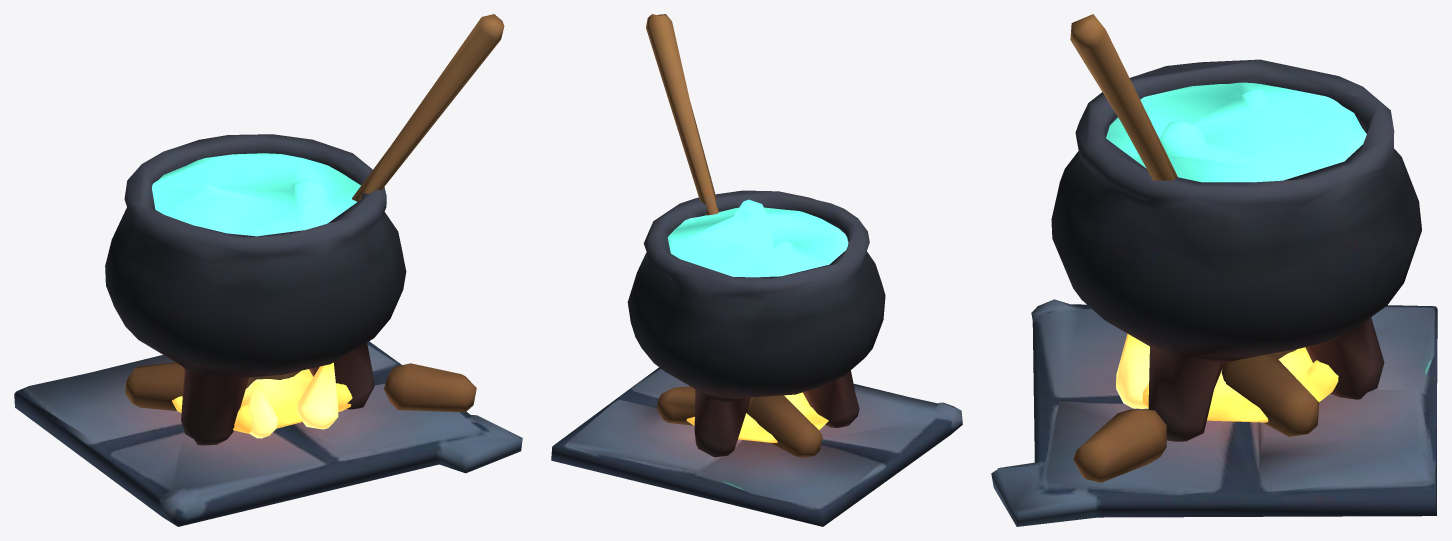
The model's file is cauldron.glb.
3 renders of one model, left to right at view 1: azimuth 30°, elevation 25°; view 2: azimuth 150°, elevation 25°; view 3: azimuth 270°, elevation 25°, orthographic. The views are drawn at different scales.
Parts seen in each view (by area): view 1: hearth, brew, flames, embers; view 2: hearth, brew, embers; view 3: hearth, brew, embers, flames.
Part boxes in pixels (x1,y1,x2,y2): hearth: [14, 14, 522, 526]; brew: [152, 153, 360, 236]; flames: [248, 362, 338, 438]; embers: [172, 369, 352, 433]; hearth: [551, 14, 962, 526]; brew: [667, 199, 848, 277]; embers: [686, 392, 828, 442]; hearth: [991, 14, 1437, 526]; brew: [1106, 82, 1366, 182]; embers: [1142, 347, 1338, 422]; flames: [1116, 333, 1149, 408].
Bounding box in the file's own units: 0.809 × 0.9084 × 0.7224.
Materials: 4 (4 with a texture image).
